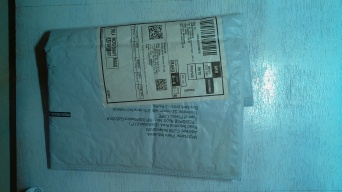a: (44, 26, 246, 180)
